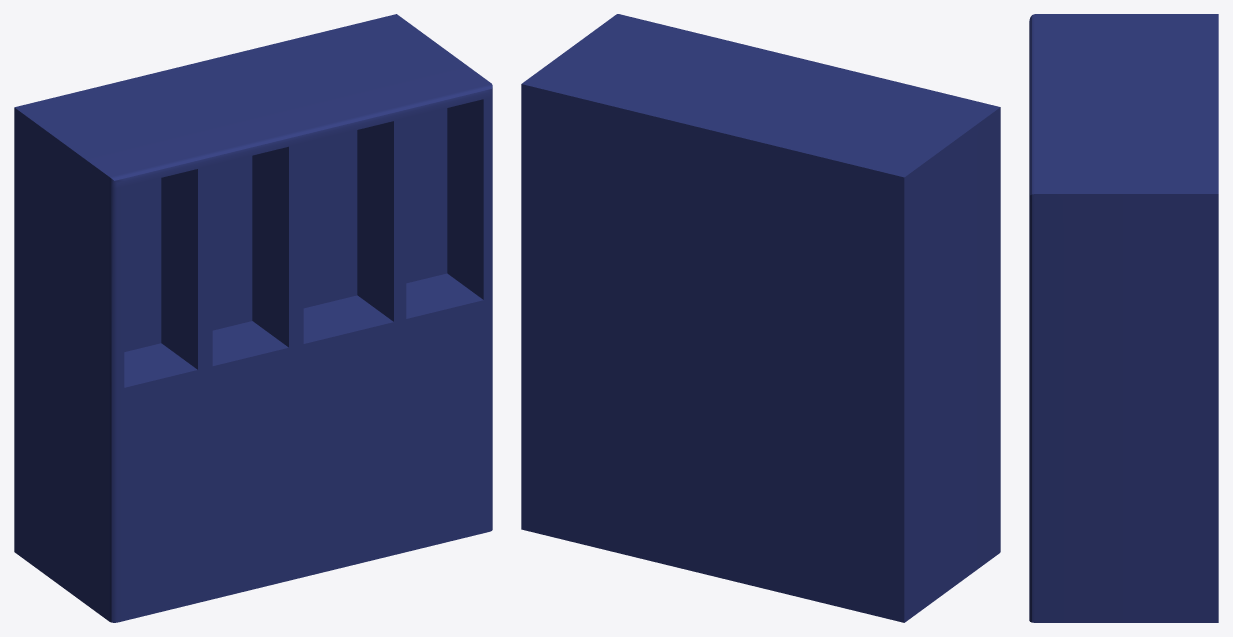
The model's file is BridgeControlMachine.glb.
3 renders of one model, left to right at view 1: azimuth 30°, elevation 25°; view 2: azimuth 150°, elevation 25°; view 3: azimuth 270°, elevation 25°, orthographic. The views are drawn at different scales.
Visible parts, largest first — view 1: Bridge_Control_Machine; view 2: Bridge_Control_Machine; view 3: Bridge_Control_Machine.
Part boxes in pixels (box(x1,y1,x2,y2)): Bridge_Control_Machine: box(14, 14, 492, 622); Bridge_Control_Machine: box(521, 14, 1000, 622); Bridge_Control_Machine: box(1029, 14, 1218, 622).
Size of the model in its own units: 9 by 10 by 4.
